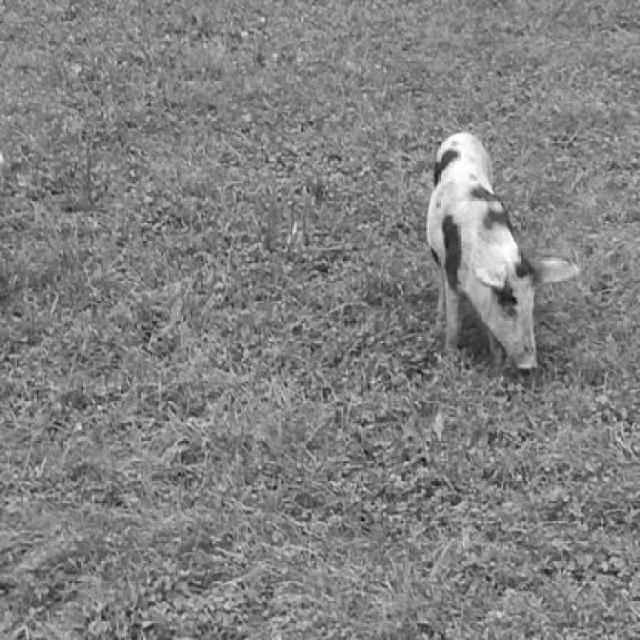Boar: (426, 131, 579, 371)
